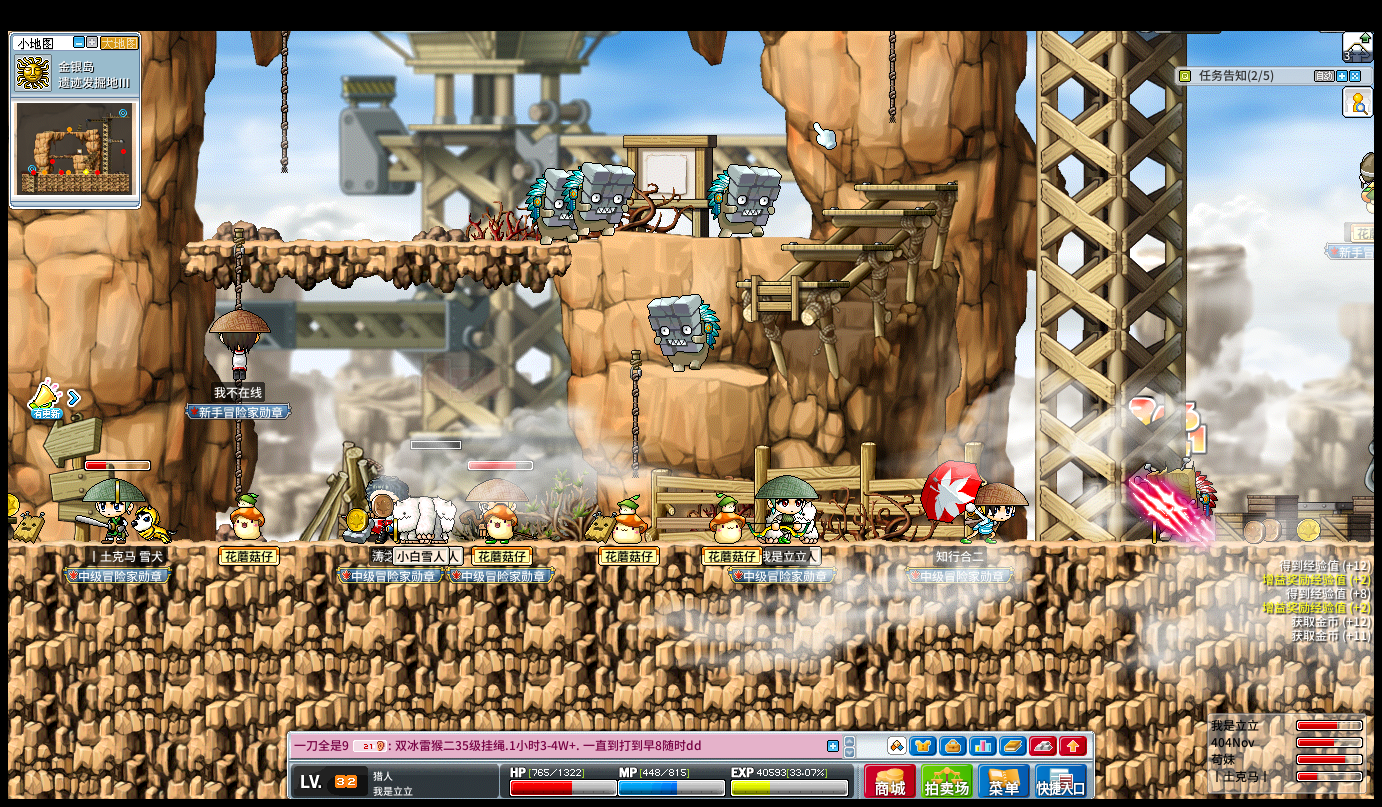floor: (8, 538, 1374, 553), (185, 236, 572, 249), (665, 363, 769, 386), (732, 279, 849, 288), (820, 206, 935, 215), (780, 243, 899, 250), (854, 184, 958, 192)
monster: (1136, 462, 1217, 540), (647, 293, 722, 372), (707, 164, 782, 238), (563, 161, 634, 237), (524, 167, 574, 245)
rope: (279, 32, 288, 174), (630, 351, 640, 477), (232, 226, 242, 312), (886, 30, 895, 123), (232, 419, 242, 497)
